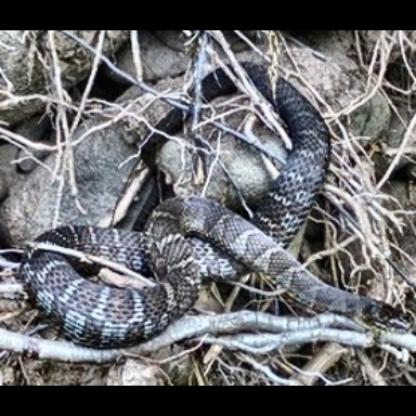Snake: (7, 112, 415, 362)
